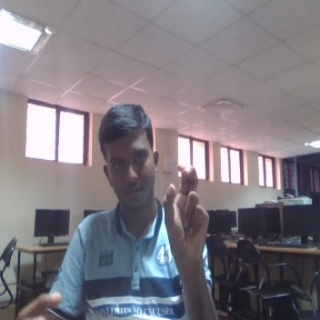Face: (92, 103, 161, 211)
